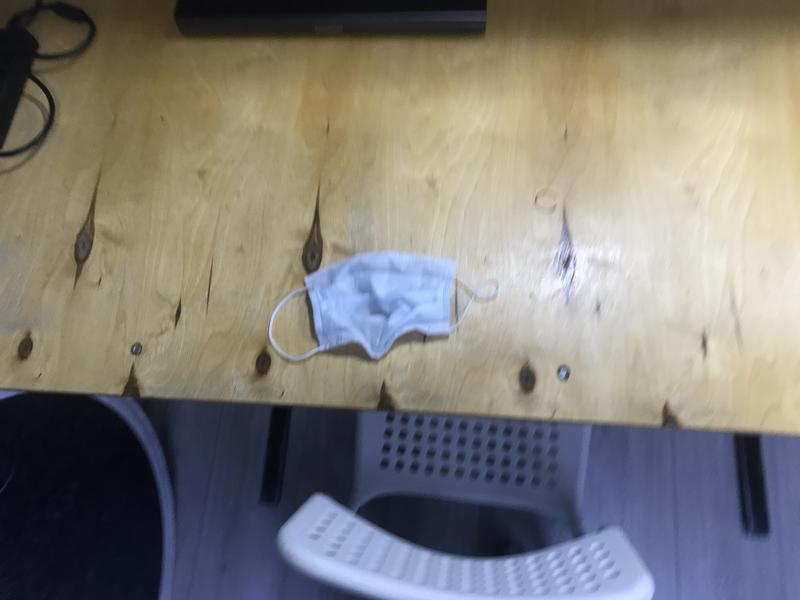medical_mask: (270, 251, 500, 362)
